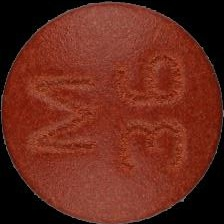51079-133: (0, 0, 224, 224)
